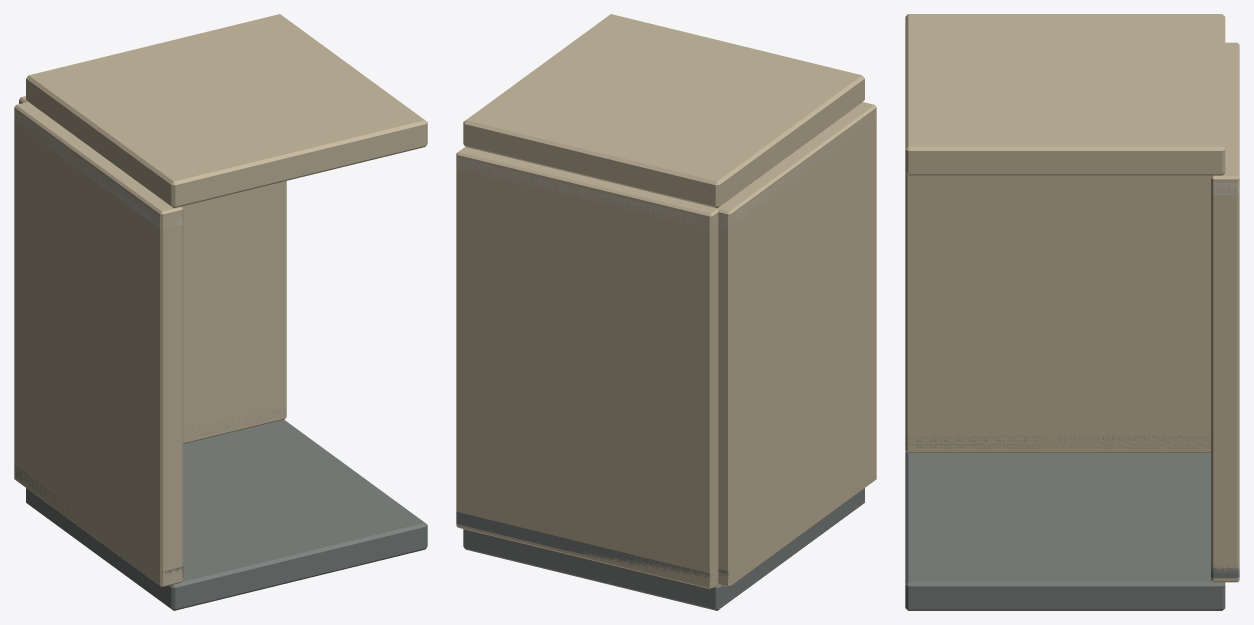
Rendered from architecture-scifi-corridor-corner.lod0.glb.
The picture shows the model from 3 angles, left to right: view 1: azimuth 30°, elevation 25°; view 2: azimuth 150°, elevation 25°; view 3: azimuth 270°, elevation 25°; orthographic projection. The views are drawn at different scales.
Visible parts, largest first — view 1: architecture-scifi-corridor-corner__body; view 2: architecture-scifi-corridor-corner__body; view 3: architecture-scifi-corridor-corner__body.
Part boxes in pixels (bbox=[...]): architecture-scifi-corridor-corner__body: bbox=[14, 14, 427, 610]; architecture-scifi-corridor-corner__body: bbox=[456, 14, 876, 610]; architecture-scifi-corridor-corner__body: bbox=[905, 14, 1239, 610].
Size of the model in its own units: 2.09 by 3.2 by 2.09.
